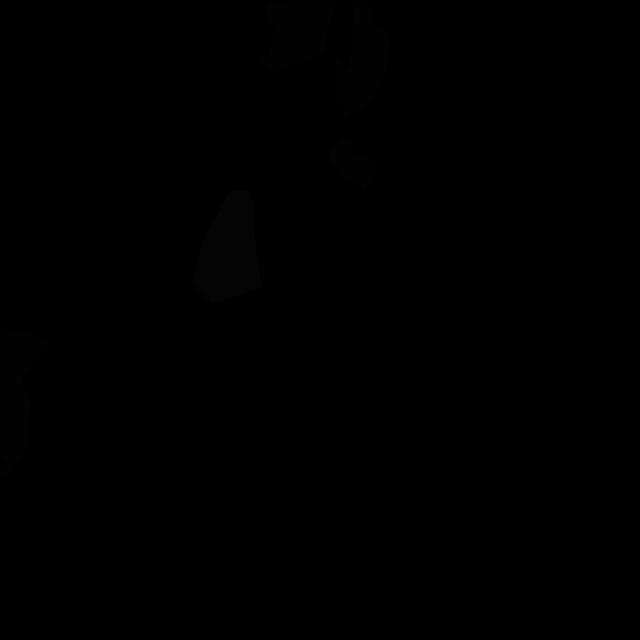cardboard: (0, 328, 50, 477), (334, 0, 389, 120), (259, 1, 338, 74), (329, 137, 378, 193)
soft_plastic: (192, 190, 262, 304)
